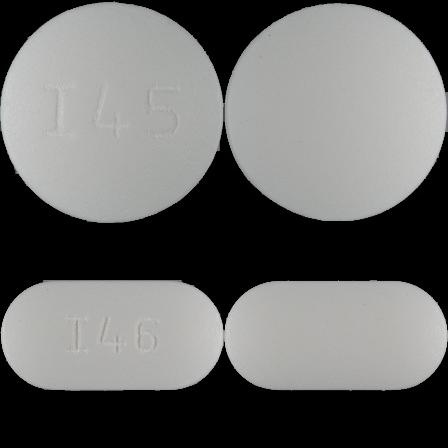43547-248: (0, 0, 224, 224)
